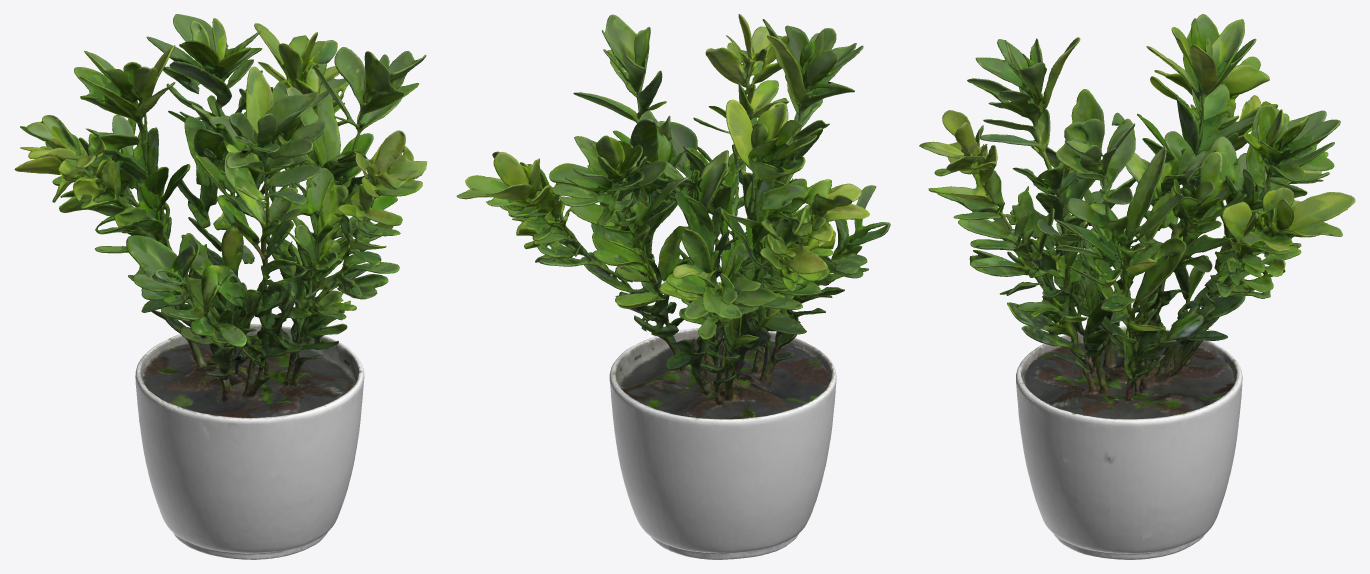
Rendered from Zamioculcas3dModel.glb.
3 renders of one model, left to right at view 1: azimuth 30°, elevation 25°; view 2: azimuth 150°, elevation 25°; view 3: azimuth 270°, elevation 25°, orthographic.
Size of the model in its own units: 1.55 by 2 by 1.65.
1 material, 1 textured.
